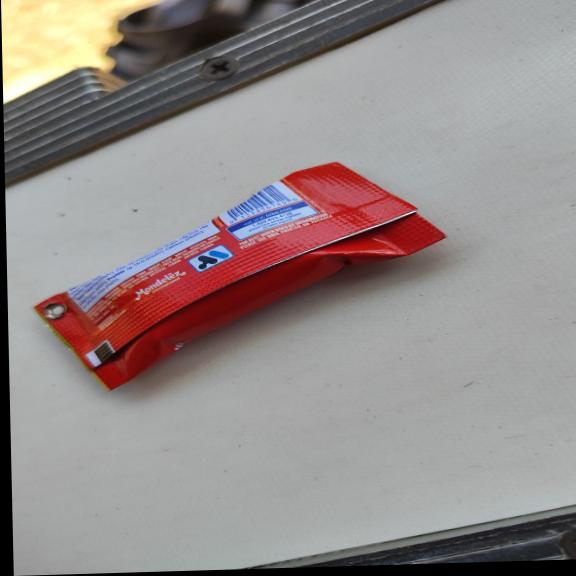Plastik: (26, 158, 451, 394)
